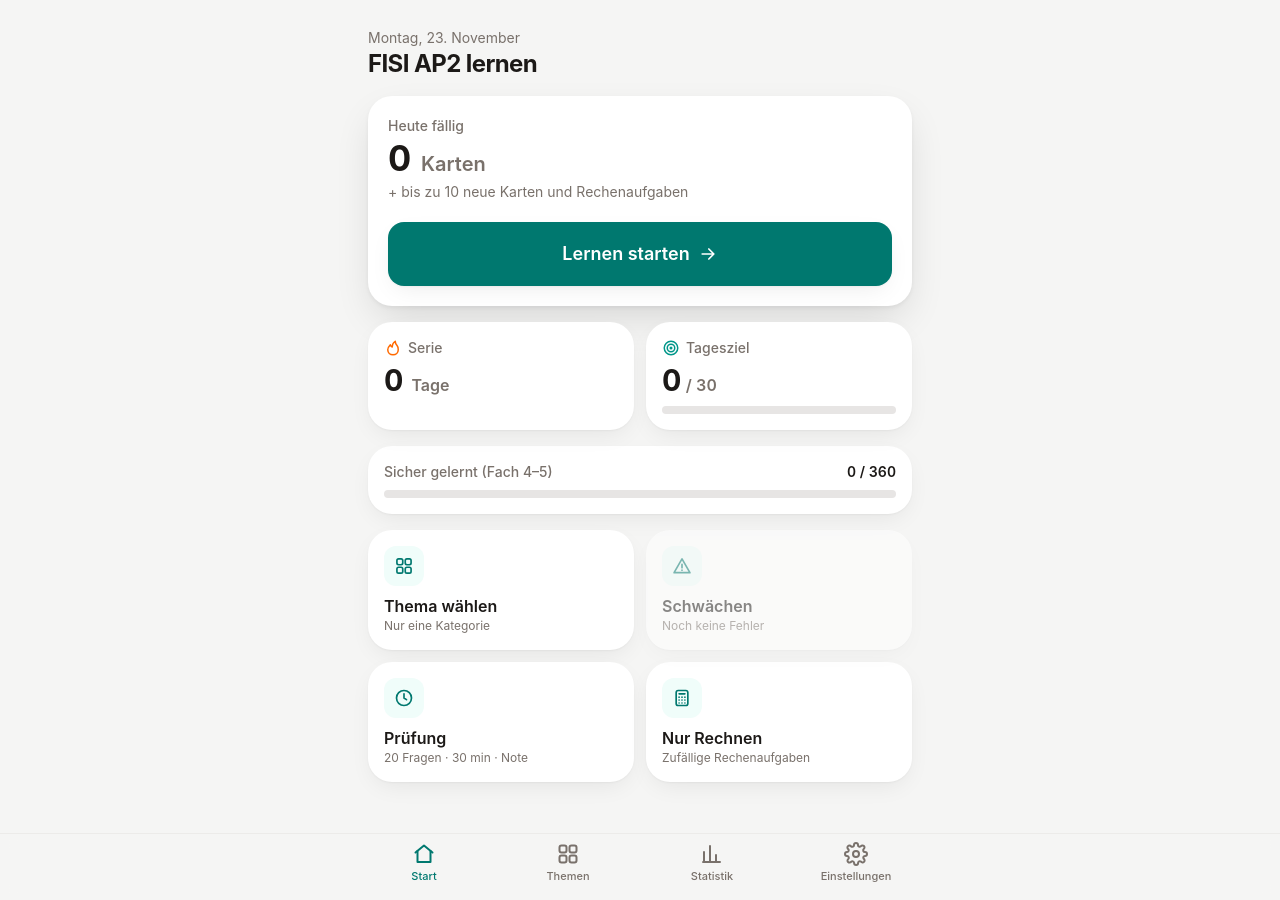
Scenario: App › Nur Rechnen zeigt Rechenweg
Click the button "Nur Rechnen Zufällige Rechenaufgaben" at (682, 698), box [646,662,912,782]
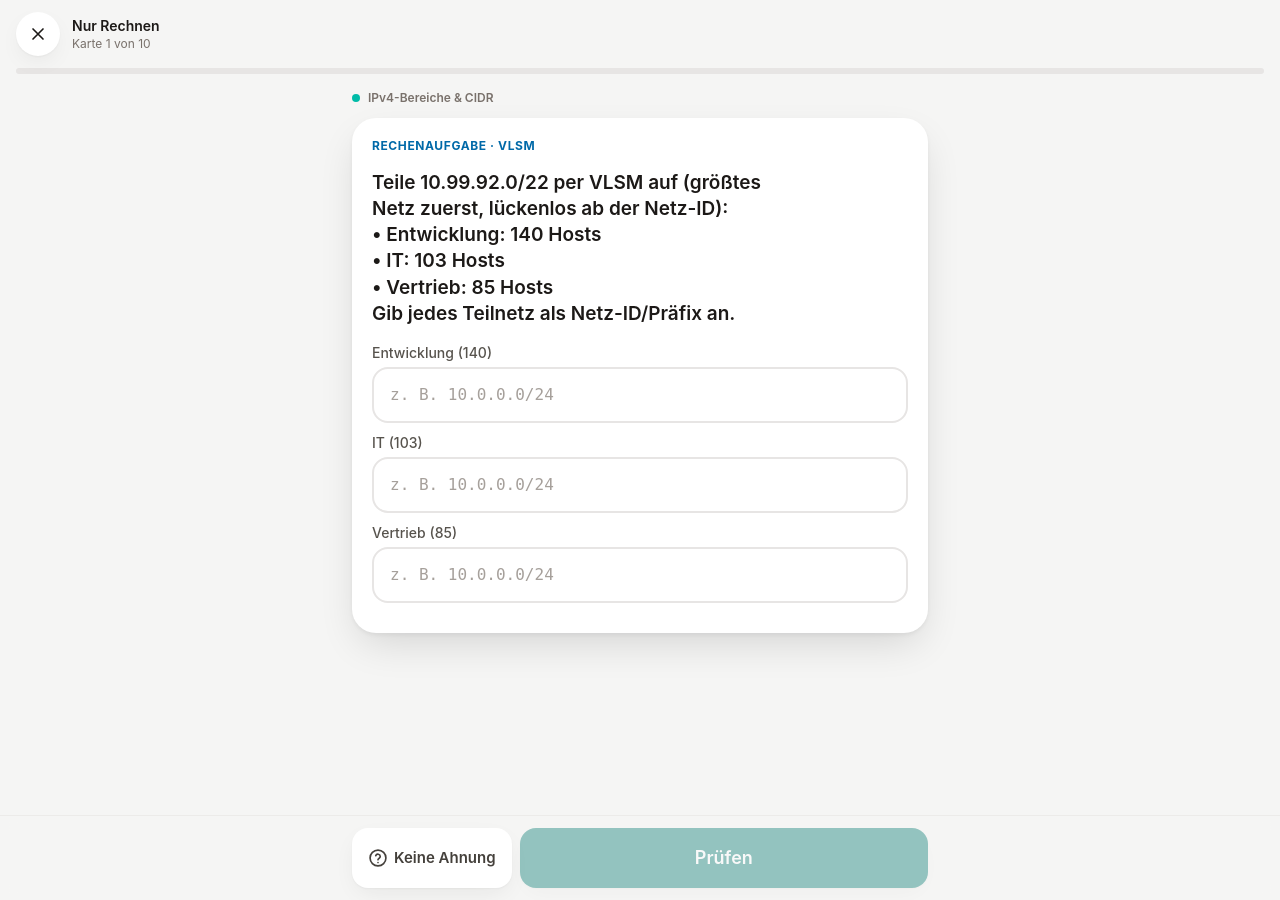
Type "1" into the field labelled "Entwicklung (140)" at (640, 395), box [390,369,890,421]
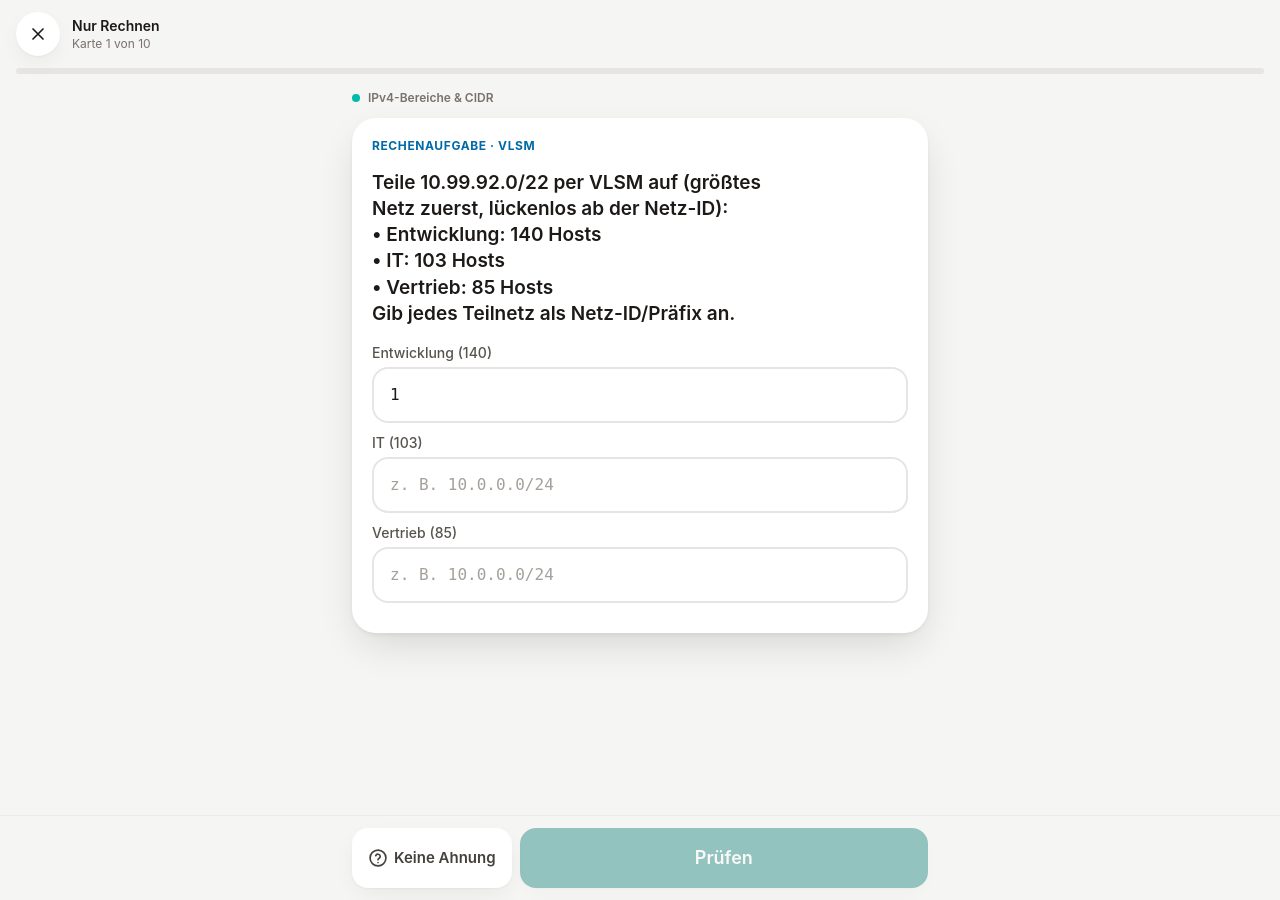
Type "1" into the field labelled "IT (103)" at (640, 485), box [390,459,890,511]
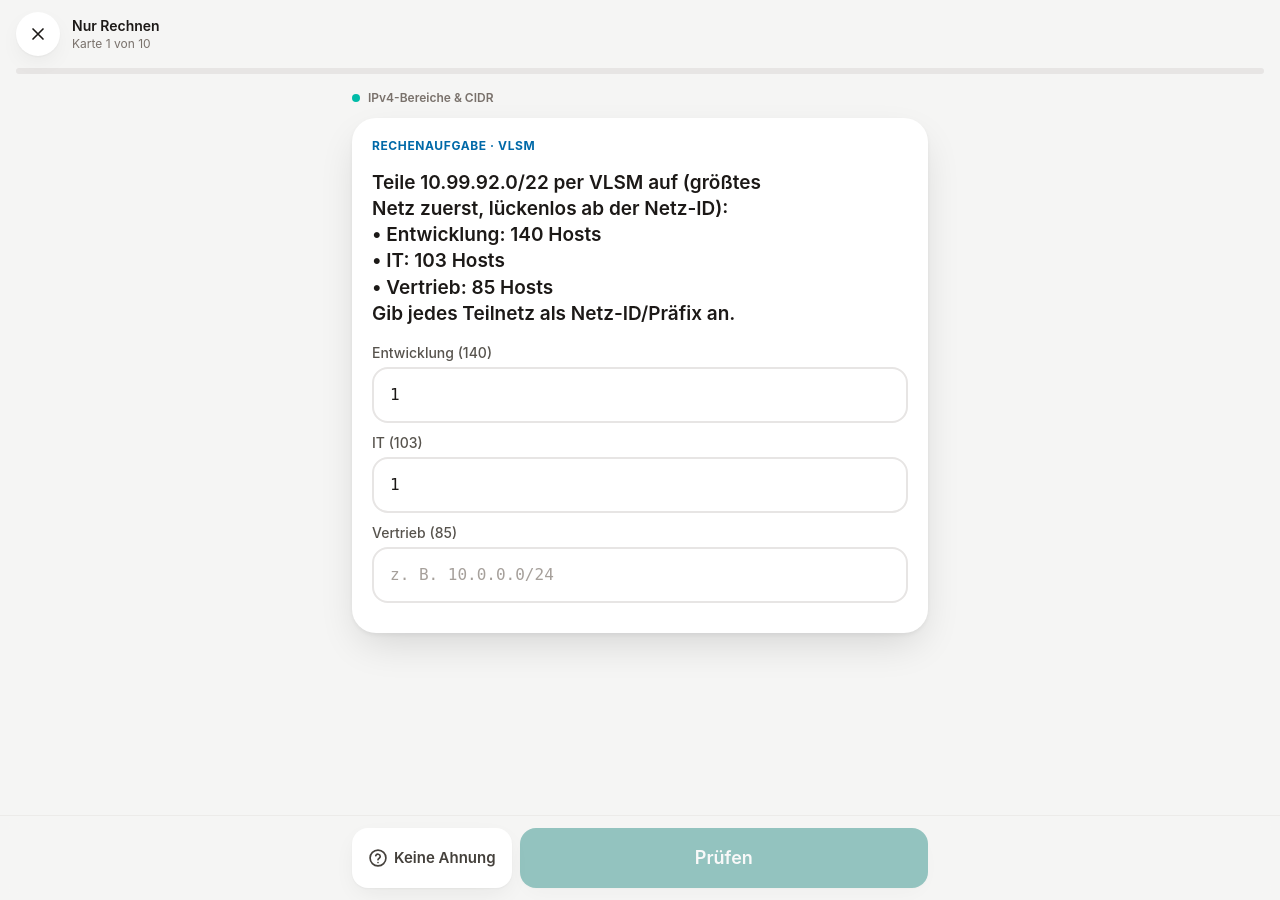
Type "1" into the field labelled "Vertrieb (85)" at (640, 575), box [390,549,890,601]
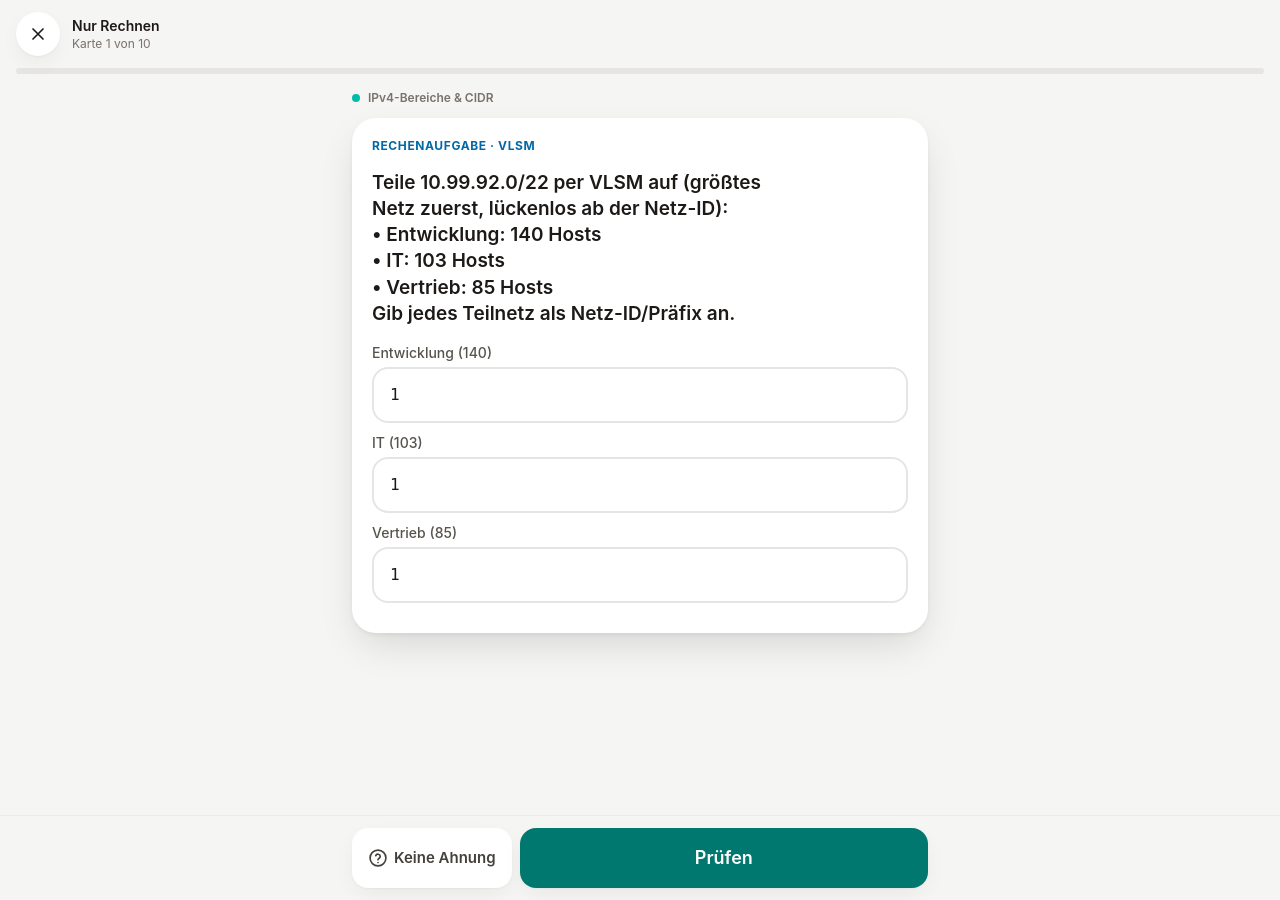
Click the button "Prüfen" at (724, 858), box [520,828,928,888]
(page scrolled)
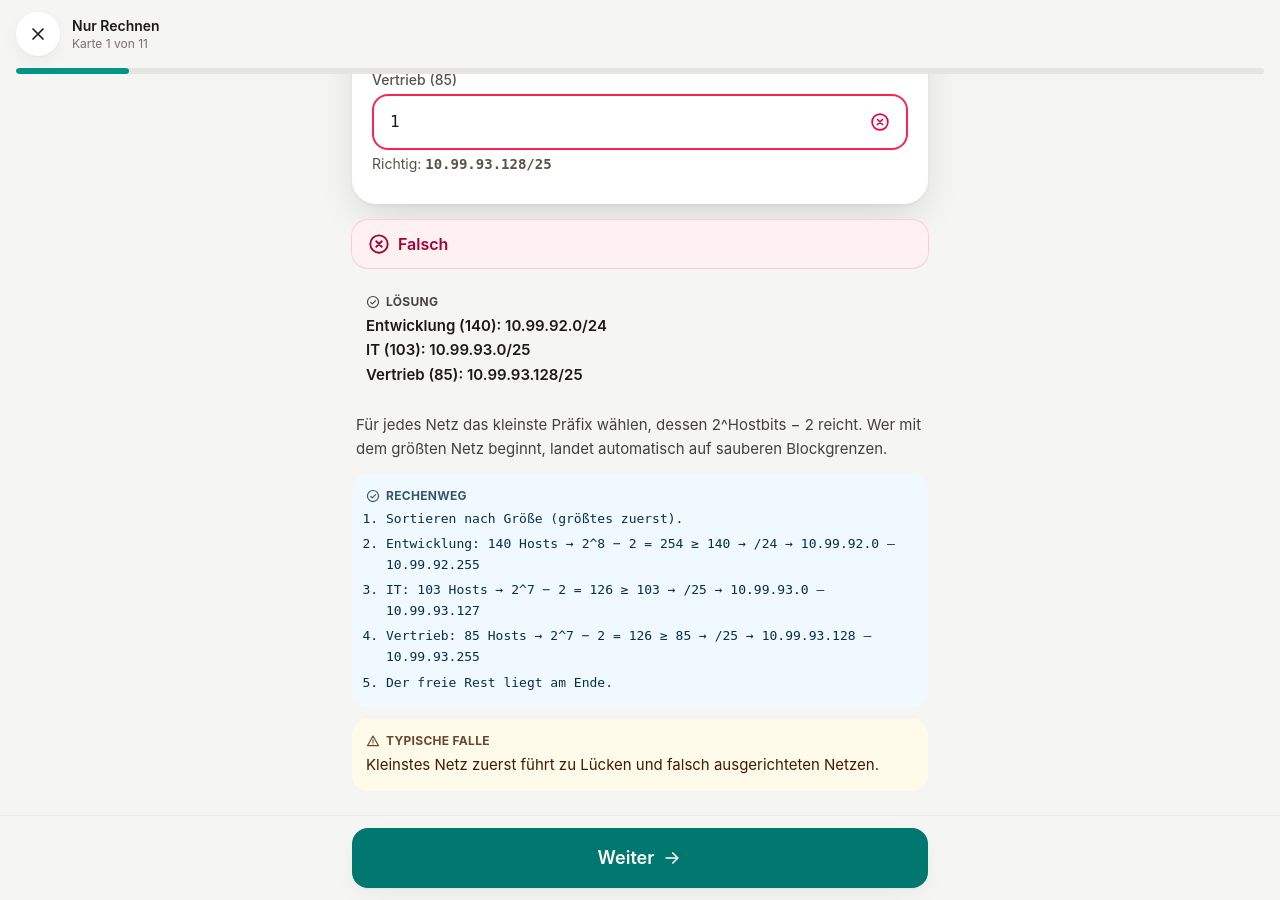
Check: the text "Rechenweg" is shown, box [366,488,467,503]
